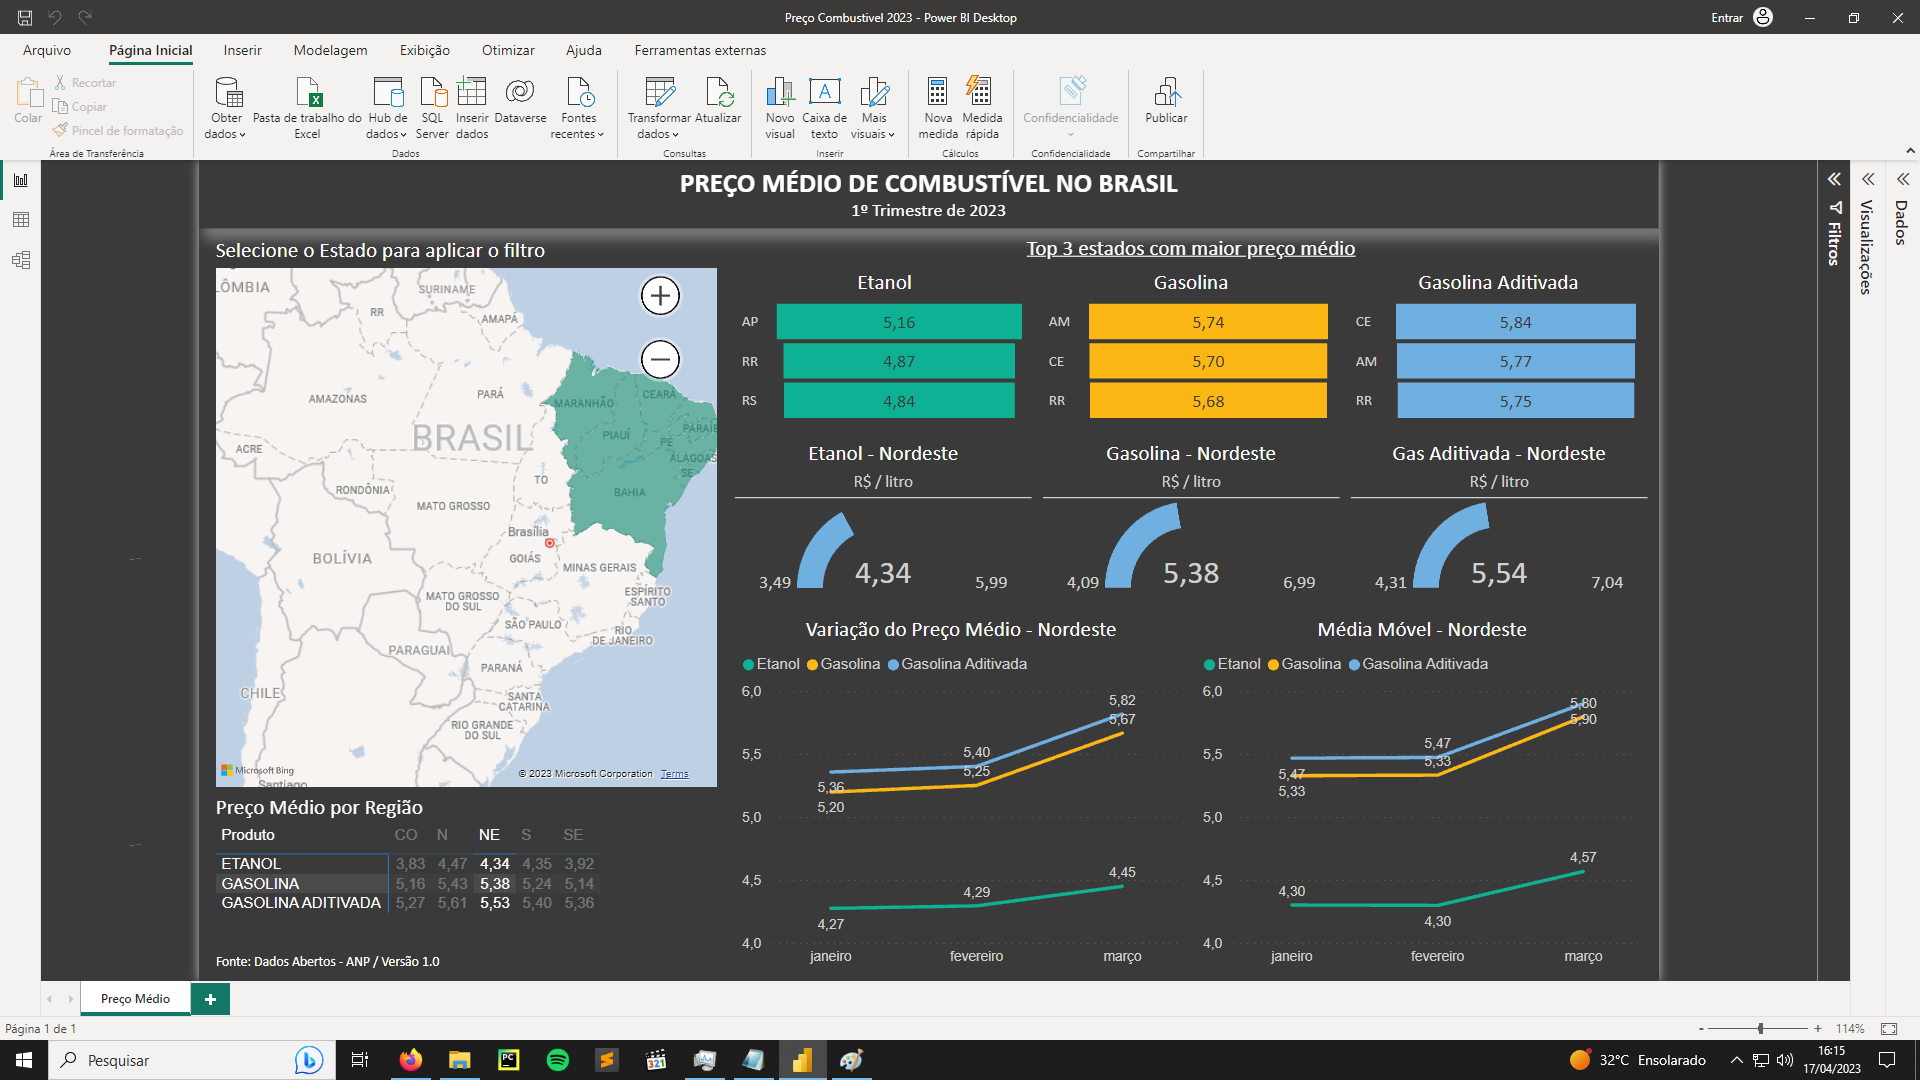

This screenshot's page, from the dashboard's own definition file:
{"tool":"powerbi","page":{"name":"Preço Médio","canvas":[1280,720],"ordinal":0},"visuals":[{"type":"lineChart","fields":{"Category":["preco_tratado.Data_Coleta.Variation.Hierarquia de datas.Mês","preco_tratado.Data_Coleta.Variation.Hierarquia de datas.Dia"],"Y":["Medidas.MediaNacEtanol","Medidas.MediaNacGasComum","Medidas.MediaNacGasAdit"]},"box":[470.9,395,395,320],"z":0},{"type":"lineChart","fields":{"Y":["Medidas.Média móvel de MediaNacEtanol","Medidas.Média móvel de MediaNacGasComum","Medidas.Média móvel de MediaNacGasAdit"],"Category":["preco_tratado.Data_Coleta.Variation.Hierarquia de datas.Mês","preco_tratado.Data_Coleta.Variation.Hierarquia de datas.Dia"]},"box":[874.9,395,395.1,320],"z":1000},{"type":"filledMap","title":"Selecione o Estado para aplicar o filtro","fields":{"Category":["preco_tratado.Estado"]},"box":[10,65,450,490],"z":2000},{"type":"pivotTable","fields":{"Rows":["preco_tratado.Produto"],"Columns":["preco_tratado.Regiao"],"Values":["Medidas.MediaValorVenda"]},"box":[10,554.7,450,123.7],"z":3000},{"type":"funnel","title":"Gasolina ","fields":{"Category":["TOPMediaGas.Estado"],"Y":["Avg(TOPMediaGas.GAS)"]},"box":[740.2,95,260,140.1],"z":4000},{"type":"textbox","box":[0,0,1280,60],"z":5000},{"type":"funnel","title":"Gasolina Aditivada","fields":{"Category":["TOPMediaGasAdit.Estado"],"Y":["Avg(TOPMediaGasAdit.GAS_ADIT)"]},"box":[1009.6,95,260.7,140.1],"z":6000},{"type":"funnel","title":"Etanol","fields":{"Category":["TOPMediaEtanol.Estado"],"Y":["Avg(TOPMediaEtanol.ETANOL)"]},"box":[470.8,95,260.7,140.1],"z":7000},{"type":"textbox","title":"Top 3 estados com maior preço médio","box":[470.2,65,800.1,30],"z":8000},{"type":"textbox","box":[10,690,225.5,25.9],"z":9000},{"type":"textbox","box":[470,245.1,260,52],"z":10000},{"type":"gauge","fields":{"Y":["Medidas.MediaNacEtanol"],"MinValue":["Medidas.MinMediaNacEtanol"],"MaxValue":["Medidas.MaxMediaNacEtanol"]},"box":[470,297.6,259.7,87.5],"z":11000},{"type":"textbox","box":[740,245,260,52],"z":12000},{"type":"gauge","fields":{"Y":["Medidas.MediaNacGasComum"],"MinValue":["Medidas.MinMediaNacGas"],"MaxValue":["Medidas.MaxMediaNacGas"]},"box":[740,297,259.7,87.5],"z":13000},{"type":"textbox","box":[1010.7,245,260,52],"z":14000},{"type":"gauge","fields":{"Y":["Medidas.MediaNacGasAdit"],"MinValue":["Medidas.MinMediaNacGasAdt"],"MaxValue":["Medidas.MaxMediaNacGasAdt"]},"box":[1010.7,297,259.7,87.5],"z":15000}]}

Visuals, with their boxes on the page's 1280x720 design canvas (x1, y1, x2, y2). These are canvas units, not pixel positions in the 1920x1080 screenshot, which may show the page scaled, cropped or inside an application window:
lineChart - preco_tratado.Data_Coleta.Variation.Hierarquia de datas.Mês x preco_tratado.Data_Coleta.Variation.Hierarquia de datas.Dia: l=471, t=395, r=866, b=715
lineChart - Medidas.Média móvel de MediaNacEtanol x Medidas.Média móvel de MediaNacGasComum: l=875, t=395, r=1270, b=715
"Selecione o Estado para aplicar o filtro" filledMap: l=10, t=65, r=460, b=555
pivotTable - preco_tratado.Produto x preco_tratado.Regiao: l=10, t=555, r=460, b=678
"Gasolina " funnel: l=740, t=95, r=1000, b=235
textbox: l=0, t=0, r=1280, b=60
"Gasolina Aditivada" funnel: l=1010, t=95, r=1270, b=235
"Etanol" funnel: l=471, t=95, r=732, b=235
"Top 3 estados com maior preço médio" textbox: l=470, t=65, r=1270, b=95
textbox: l=10, t=690, r=236, b=716
textbox: l=470, t=245, r=730, b=297
gauge - Medidas.MediaNacEtanol x Medidas.MinMediaNacEtanol: l=470, t=298, r=730, b=385
textbox: l=740, t=245, r=1000, b=297
gauge - Medidas.MediaNacGasComum x Medidas.MinMediaNacGas: l=740, t=297, r=1000, b=384
textbox: l=1011, t=245, r=1271, b=297
gauge - Medidas.MediaNacGasAdit x Medidas.MinMediaNacGasAdt: l=1011, t=297, r=1270, b=384
